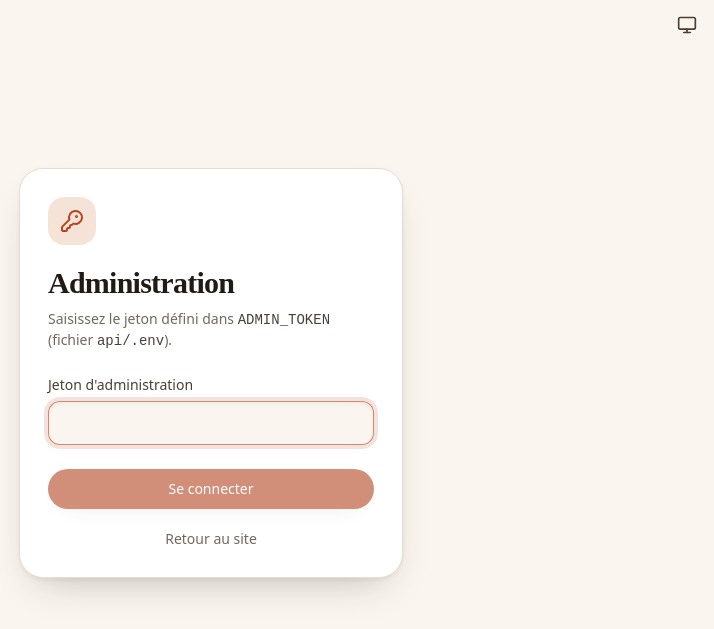
Test: connexion › refuse un jeton invalide sans le mémoriser
Type "mauvais" into the password field labelled "Jeton d'administration" at (211, 423), box [48,401,374,445]
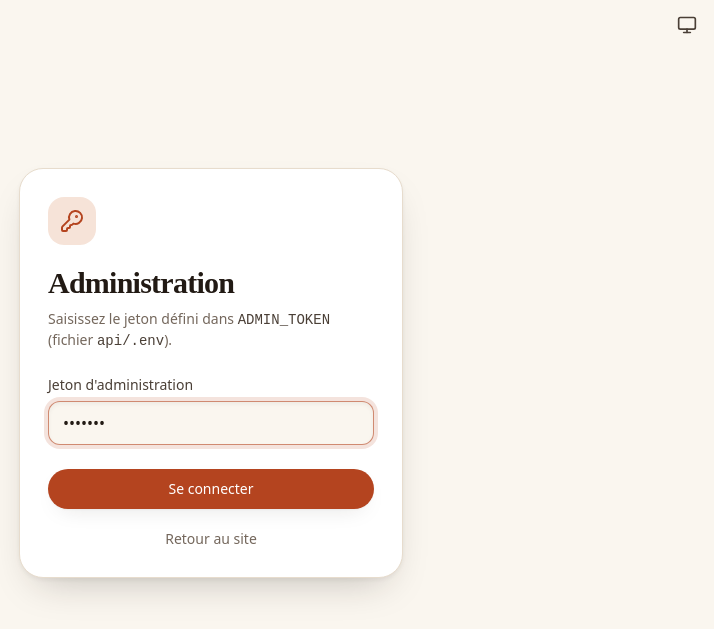
Click the button "Se connecter" at (211, 489), box [48,469,374,509]
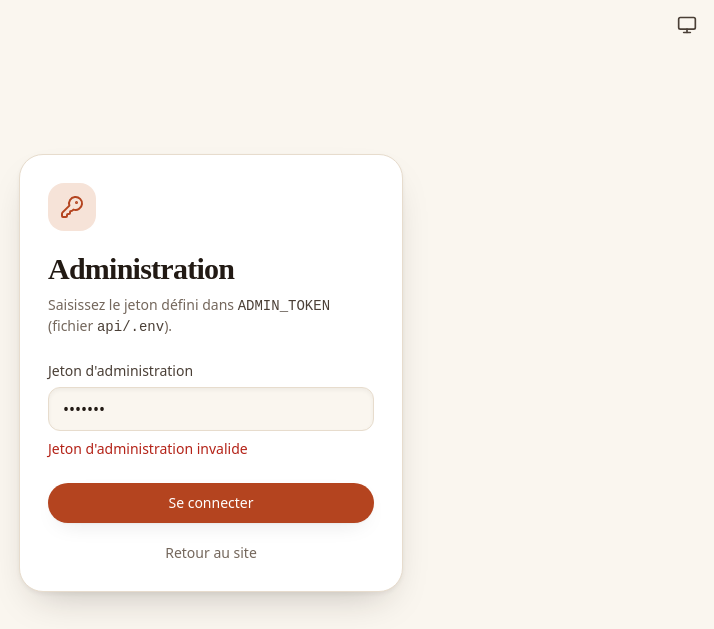
Expected: the message shows "Jeton", [48,439,248,458]
